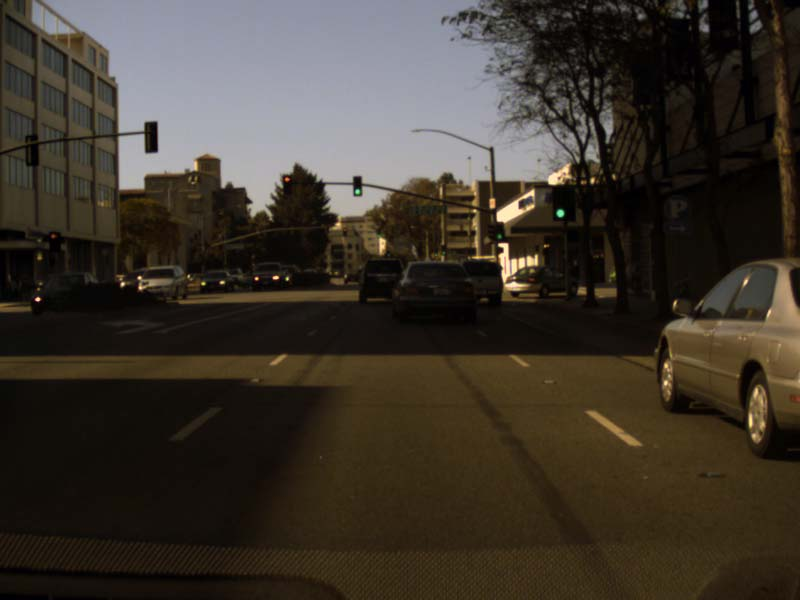Green: (553, 186, 566, 221), (493, 224, 504, 239), (353, 176, 361, 195), (441, 246, 446, 255), (376, 229, 381, 237), (434, 249, 437, 256), (386, 253, 390, 257)
Red: (48, 232, 60, 250), (284, 176, 292, 195), (343, 228, 346, 235)
